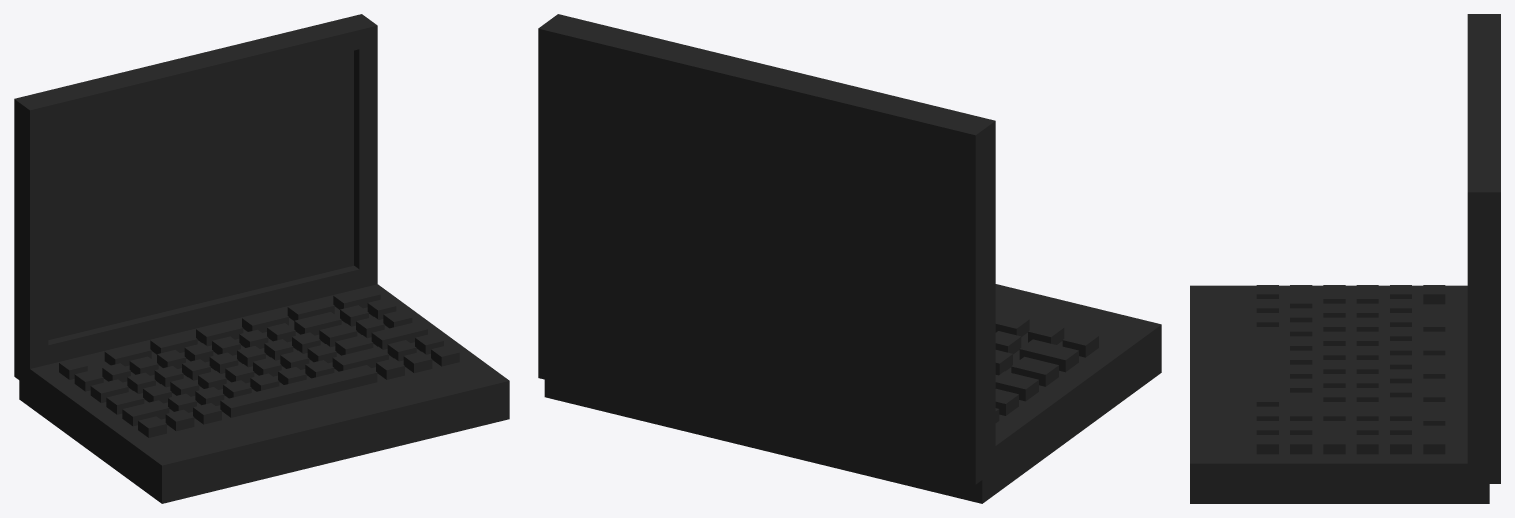
File: laptop.obj
The picture shows the model from 3 angles, left to right: view 1: azimuth 30°, elevation 25°; view 2: azimuth 150°, elevation 25°; view 3: azimuth 270°, elevation 25°; orthographic projection. The views are drawn at different scales.
Parts seen in each view (by area): view 1: laptop; view 2: laptop; view 3: laptop.
Part boxes in pixels (x1,y1,x2,y2): laptop: [14, 14, 509, 503]; laptop: [538, 14, 1161, 503]; laptop: [1190, 14, 1500, 503].
Size of the model in its own units: 38 by 31 by 28.
1 material, 1 textured.
